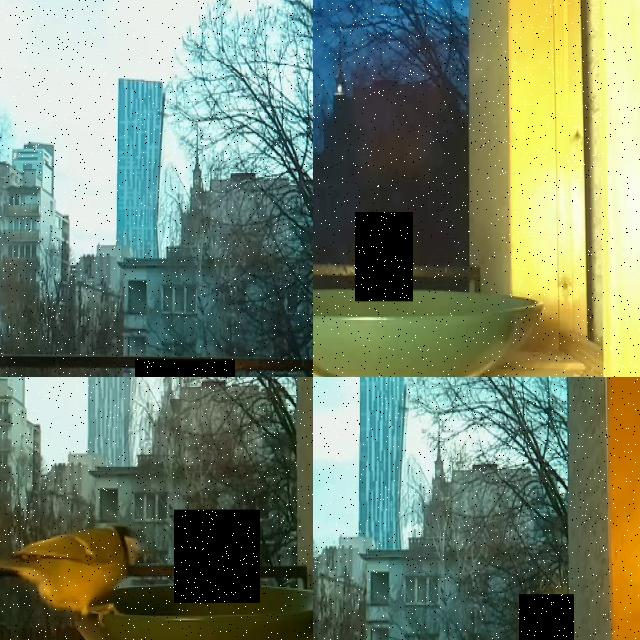Bogatka: (0, 517, 148, 628), (355, 212, 413, 301)
Modraszka: (519, 594, 574, 640), (135, 359, 235, 377)
Wrobel: (174, 510, 260, 603)
